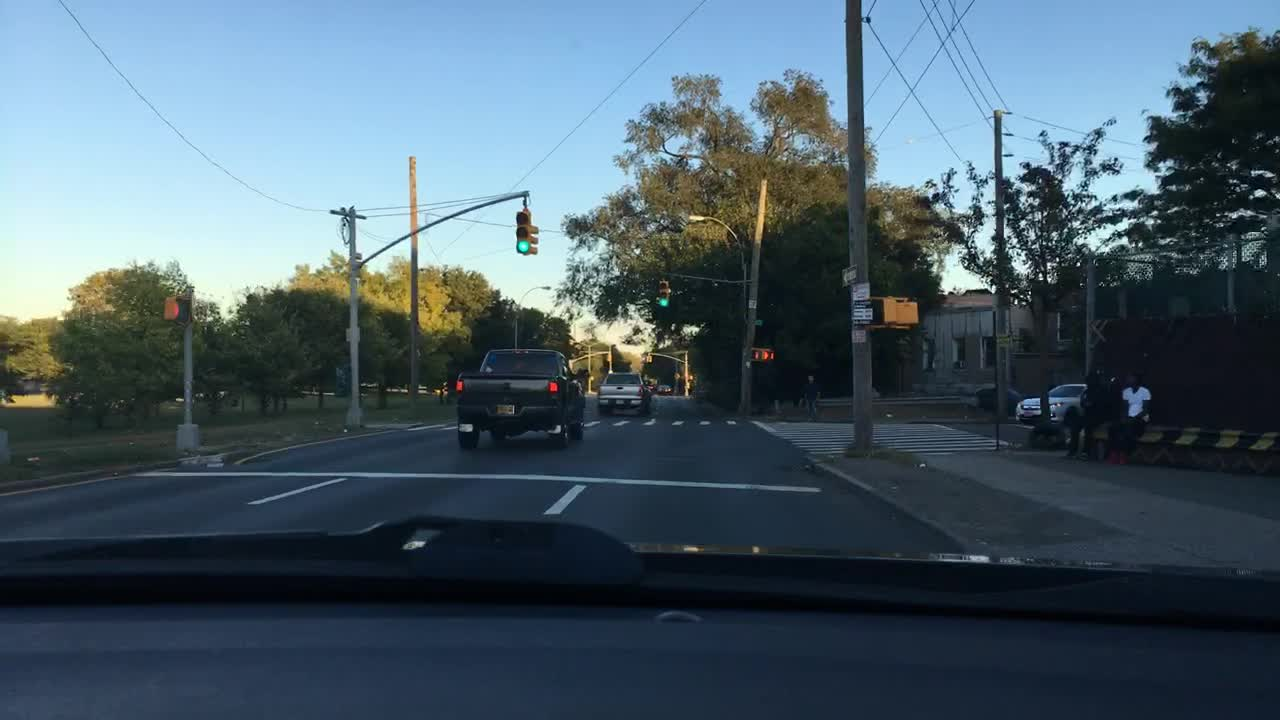car: (1013, 380, 1088, 425), (655, 382, 673, 395)
person: (1101, 370, 1155, 466), (1065, 371, 1113, 463), (799, 370, 823, 419)
traffic light: (161, 292, 189, 322), (871, 295, 895, 325), (895, 300, 919, 325), (516, 210, 529, 253), (658, 276, 671, 306), (351, 252, 363, 279), (528, 225, 538, 255), (754, 346, 773, 359)
traffic sign: (850, 304, 869, 328), (838, 264, 859, 282), (850, 282, 868, 295)
truck: (454, 344, 589, 449), (595, 371, 655, 416)
